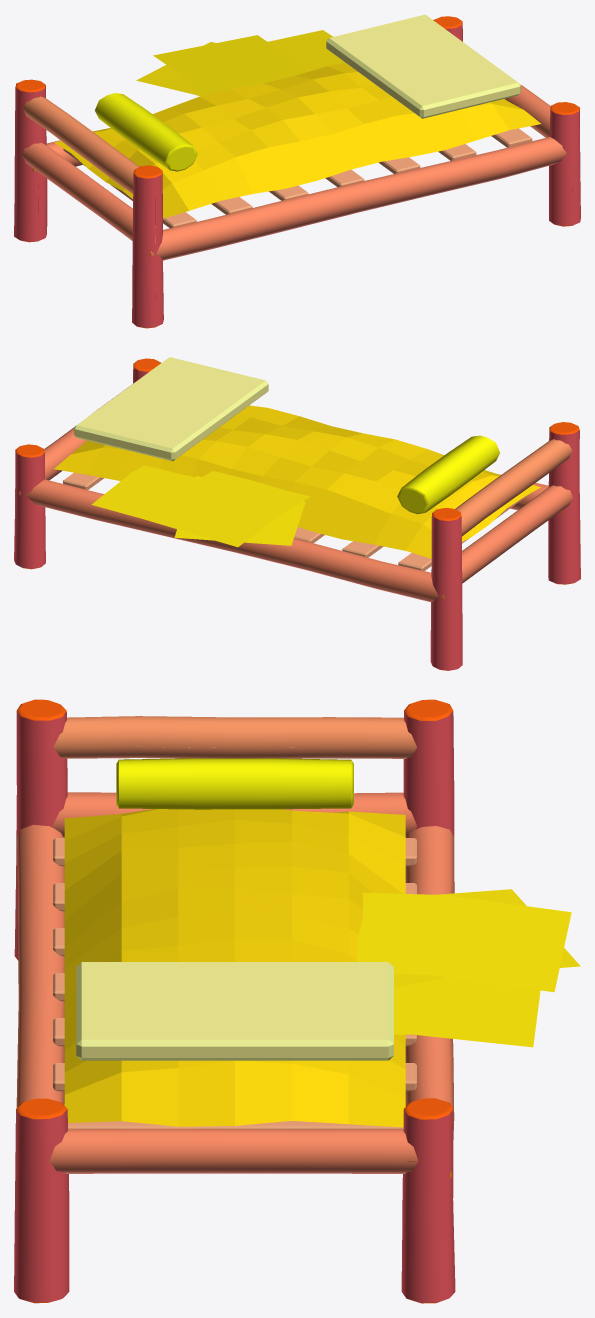
Rendered from camp_bed.glb.
3 views of the same model, one above another, from view 1: azimuth 30°, elevation 25°; view 2: azimuth 150°, elevation 25°; view 3: azimuth 270°, elevation 25° (orthographic). The views are drawn at different scales.
Visible parts, largest first — view 1: Model; view 2: Model; view 3: Model.
Part boxes in pixels (x1=…): Model: x1=14, y1=14, x2=580, y2=328; Model: x1=14, y1=357, x2=580, y2=670; Model: x1=14, y1=699, x2=580, y2=1303.
Bounding box in the file's own units: 2.19 × 0.7144 × 1.46.
